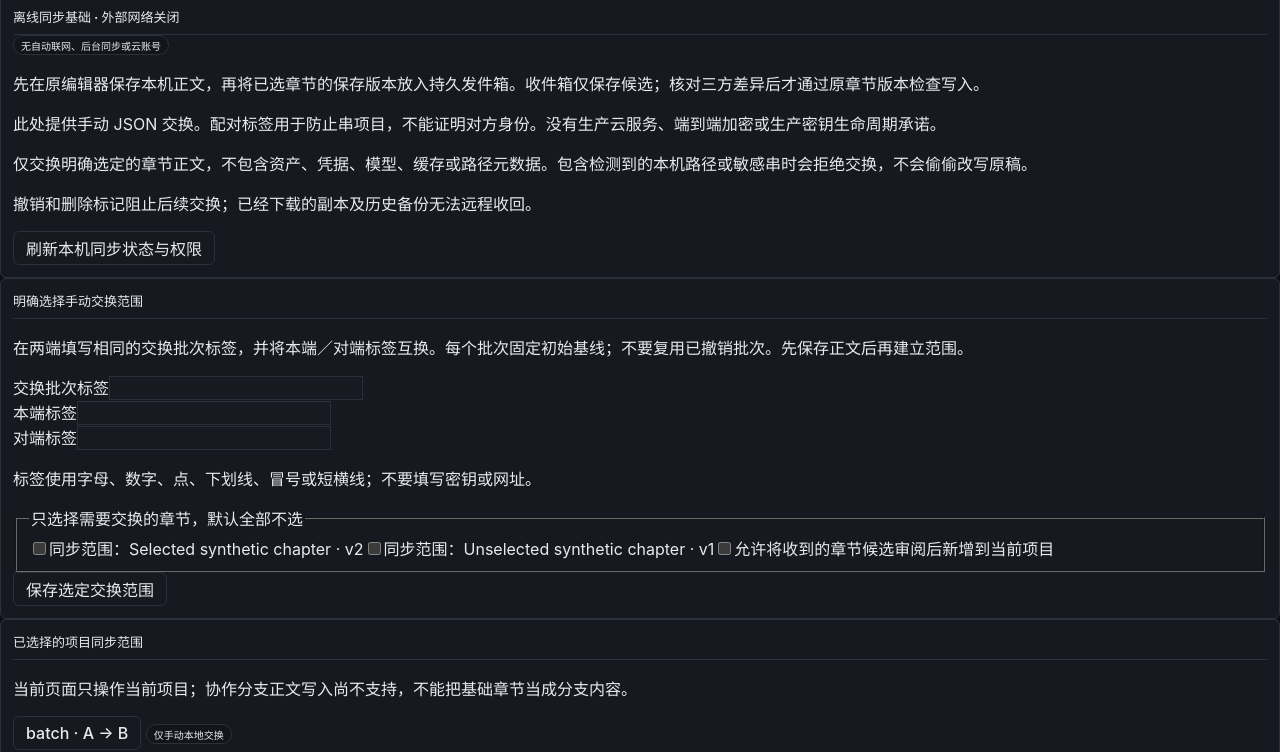
Test: defaults to no selection, no mutation or external transport, and explicit selected chapter queue
The width and height of the screenshot is (1280, 752).
Click the button "batch · A → B": click(77, 733) [13,716,141,750]
(page scrolled)
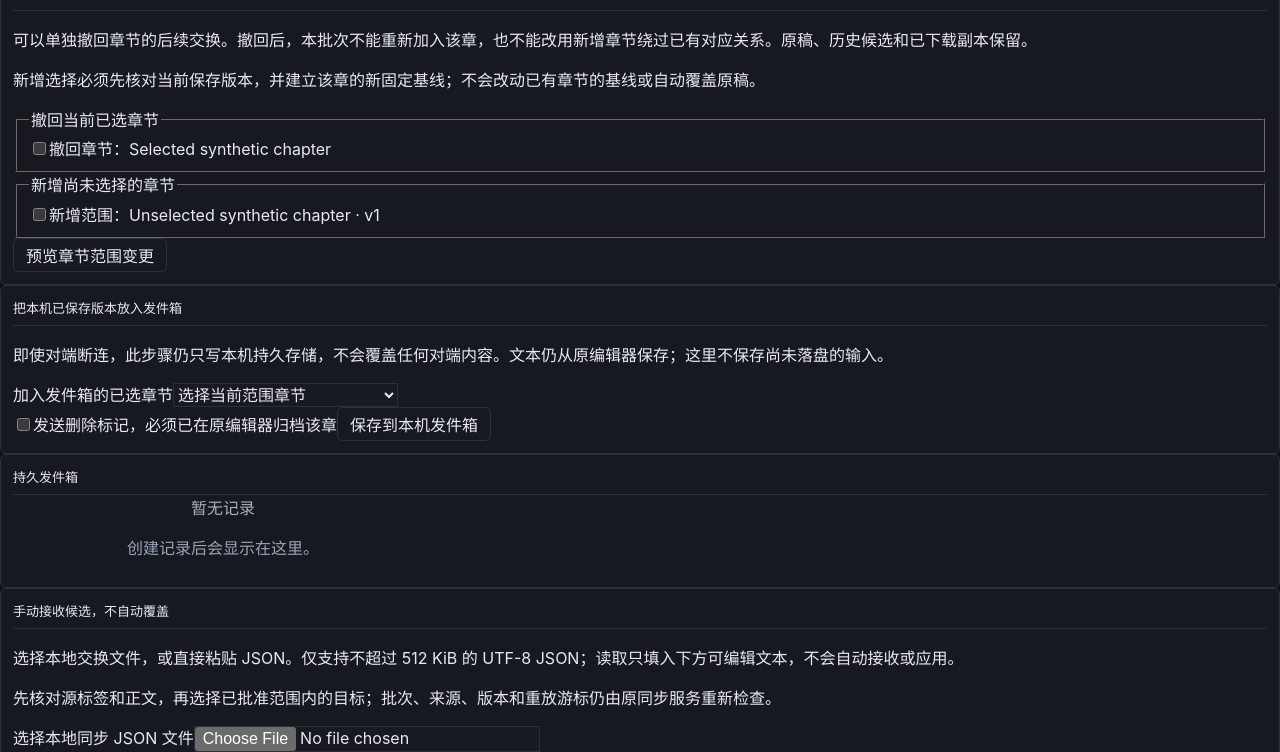
Expected: the button "保存到本机发件箱" is disabled, [337,407,491,441]
Select "Selected synthetic chapter" in the dropdown labelled "加入发件箱的已选章节": (286, 395) [173,383,398,407]
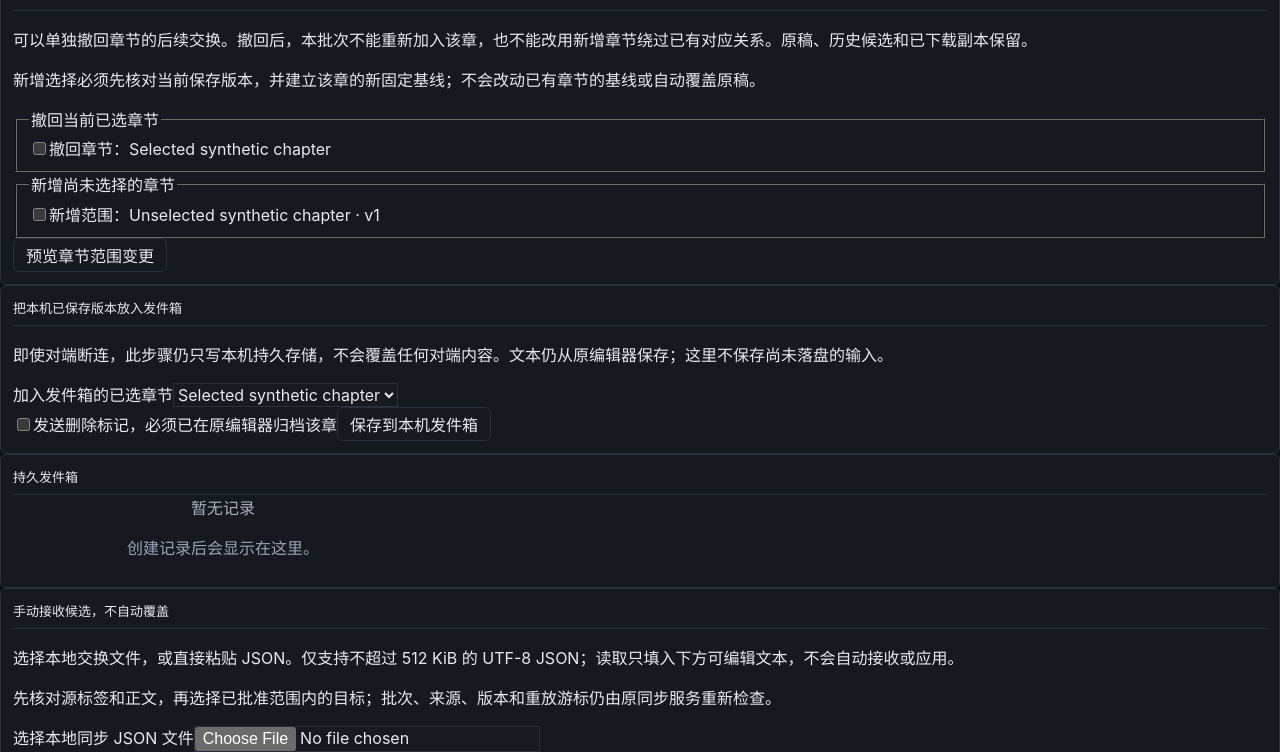
Click the button "保存到本机发件箱": click(414, 424) [337,407,491,441]
(page scrolled)
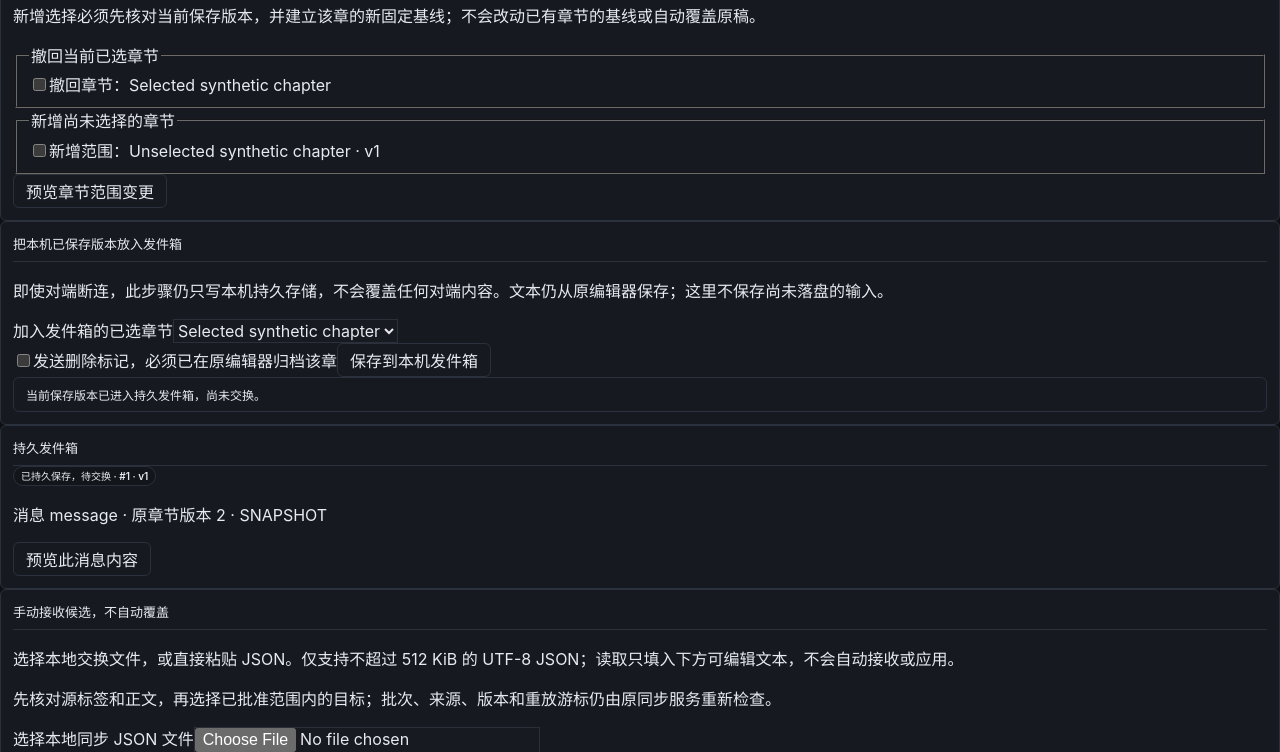
Expected: the text "当前保存版本已进入持久发件箱，尚未交换。" is shown, [13,377,1267,412]
